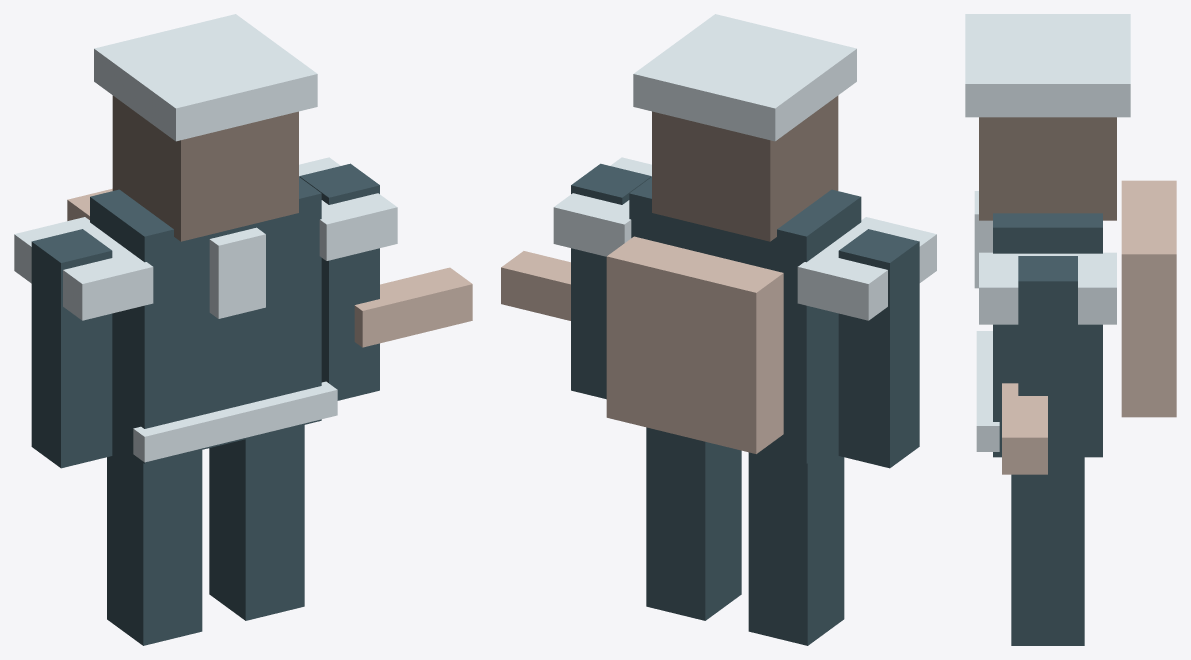
Rendered from 11_maven_holloway_engineer_at_prototype.glb.
3 views of the same model, side by side, from view 1: azimuth 30°, elevation 25°; view 2: azimuth 150°, elevation 25°; view 3: azimuth 270°, elevation 25° (orthographic).
Parts seen in each view (by area): view 1: Maven Holloway, Engineer at Prototype; view 2: Maven Holloway, Engineer at Prototype; view 3: Maven Holloway, Engineer at Prototype.
Boxes of the visible parts, left/top/right/bottom form: Maven Holloway, Engineer at Prototype: left=14, top=14, right=472, bottom=645; Maven Holloway, Engineer at Prototype: left=501, top=14, right=936, bottom=645; Maven Holloway, Engineer at Prototype: left=965, top=14, right=1176, bottom=645.
Size of the model in its own units: 1.11 by 1.45 by 0.4975.
